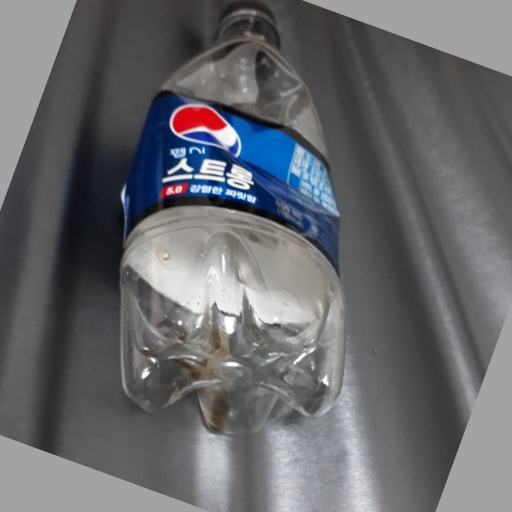Plastic_0: (115, 5, 346, 441)
